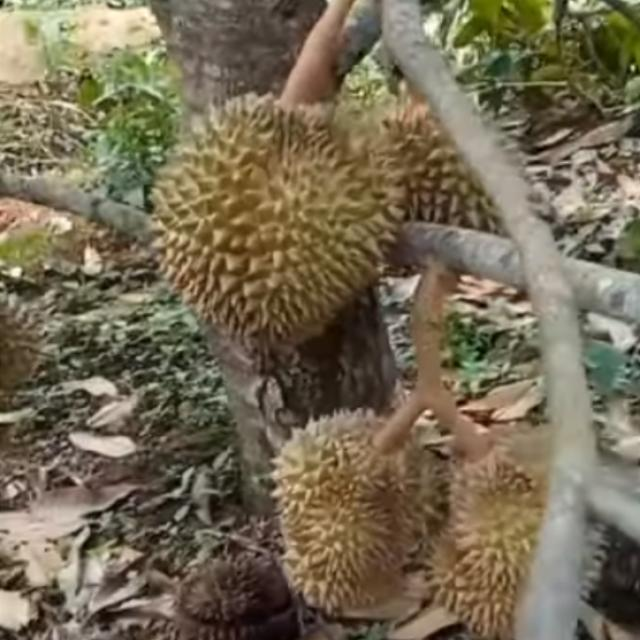mature: (149, 95, 400, 338), (266, 398, 449, 616)
